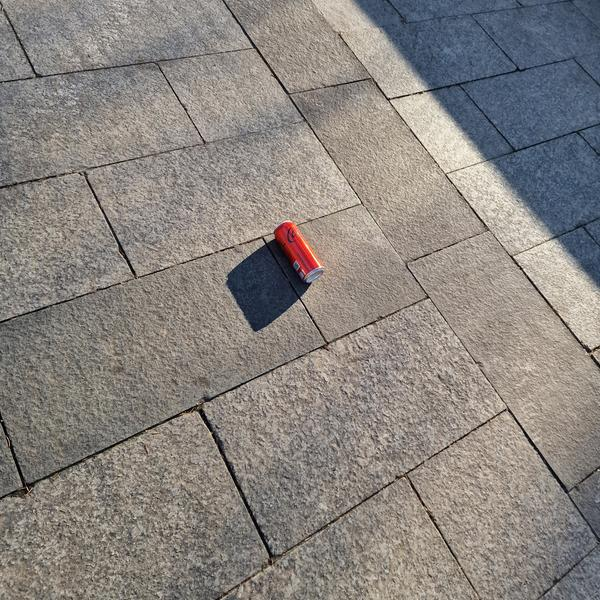can: (269, 216, 327, 287)
